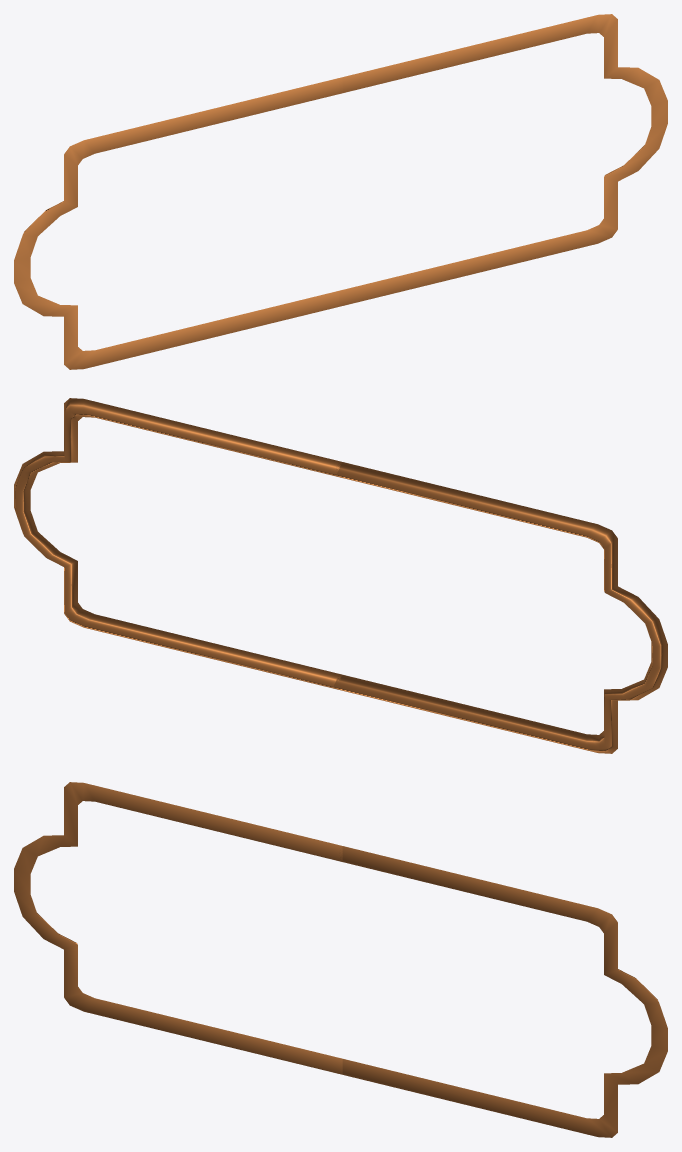
The model's file is decor.fbx.
3 views of the same model, one above another, from view 1: azimuth 30°, elevation 25°; view 2: azimuth 150°, elevation 25°; view 3: azimuth 330°, elevation 25° (orthographic).
Visible parts, largest first — view 1: Cube.019; view 2: Cube.019; view 3: Cube.019.
Part boxes in pixels (x1,y1,x2,y2): Cube.019: (14,14,667,369); Cube.019: (14,398,667,753); Cube.019: (14,782,667,1137).
Bounding box in the file's own units: 696 × 233 × 10.99.
